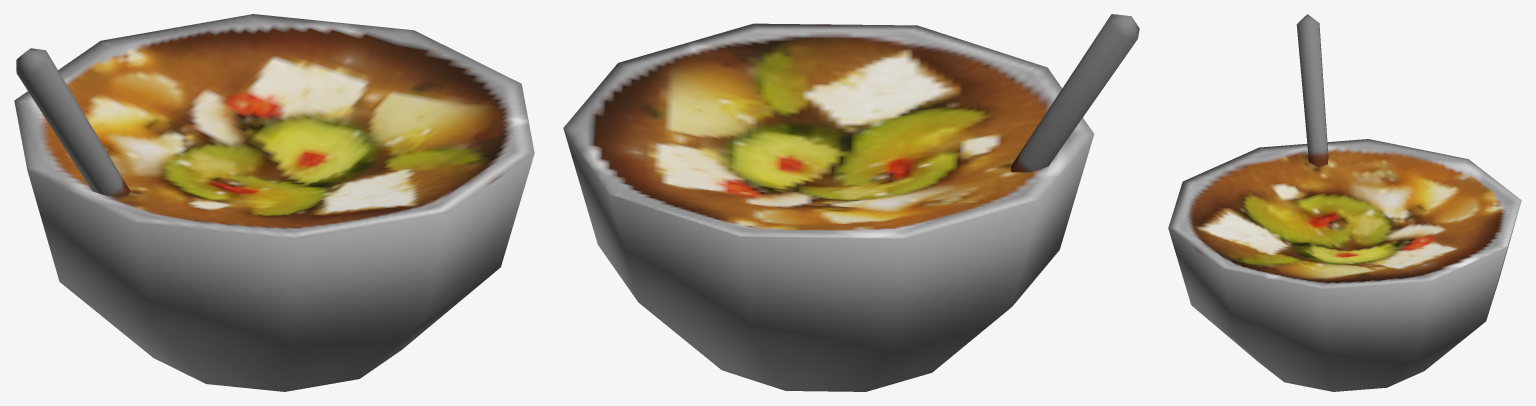
The model's file is DoenjangjjigaeBowl.FBX.
3 views of the same model, side by side, from view 1: azimuth 30°, elevation 25°; view 2: azimuth 150°, elevation 25°; view 3: azimuth 270°, elevation 25° (orthographic). The views are drawn at different scales.
Parts seen in each view (by area): view 1: CakeBatter001; view 2: CakeBatter001; view 3: CakeBatter001.
Boxes of the visible parts, left/top/right/bottom form: CakeBatter001: left=14, top=14, right=534, bottom=391; CakeBatter001: left=563, top=14, right=1139, bottom=391; CakeBatter001: left=1168, top=14, right=1521, bottom=391.
Size of the model in its own units: 51.05 by 35.35 by 45.22.
